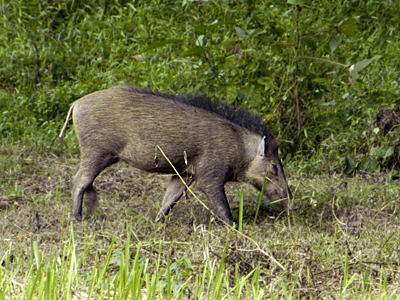boar: (56, 80, 299, 231)
